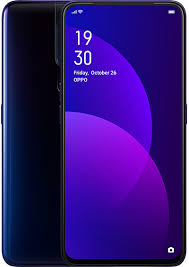oppo: (61, 1, 186, 265)
